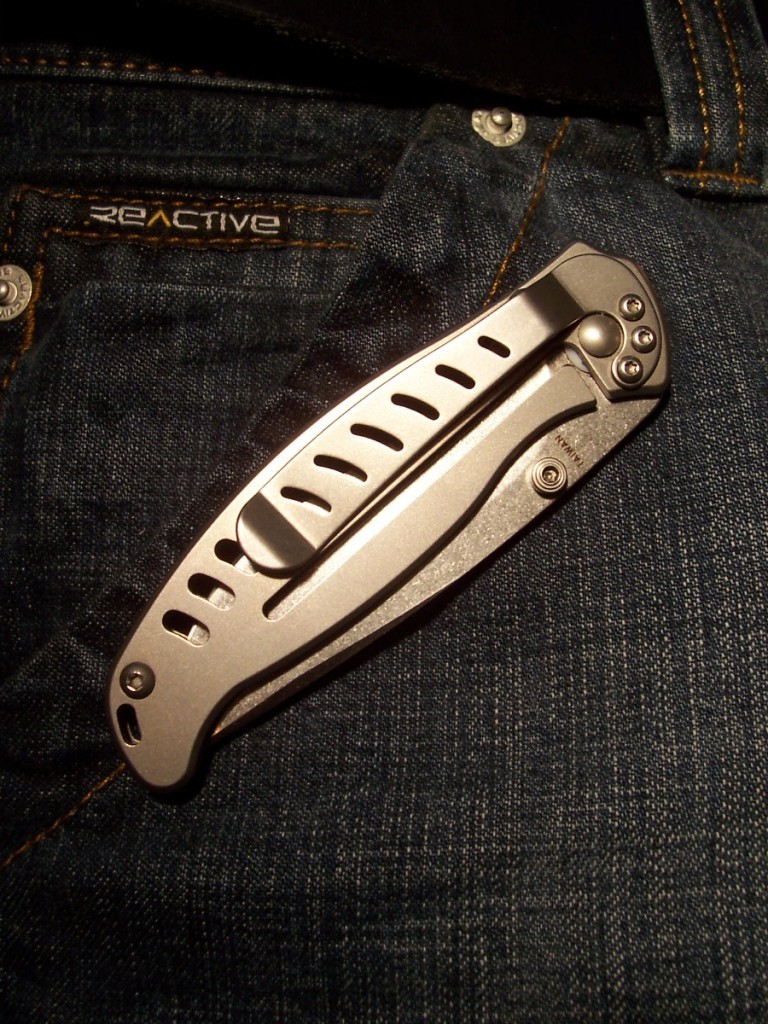knife: (105, 240, 671, 794)
